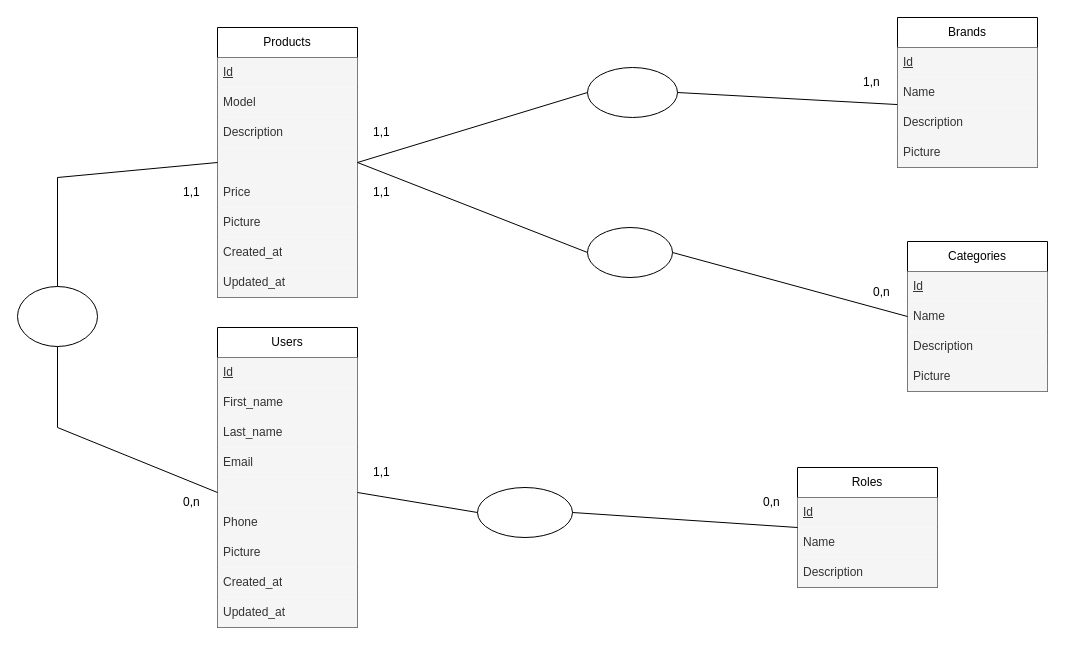
The diagram is 1065 pixels wide and 645 high, and some of its shapes have lost their labels. The centre of each missing label's shape, as x and y in pixels:
"appartenir" belongs at pixel 629 252.
"avoir" belongs at pixel 524 512.
"contenir" belongs at pixel 632 92.
"créer" belongs at pixel 57 316.
"Password" belongs at pixel 287 492.
"Quanity" belongs at pixel 287 162.
